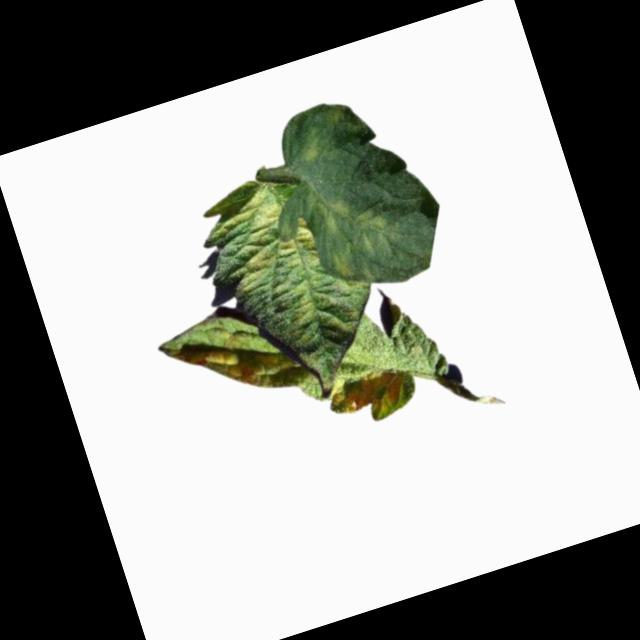Leaf_Mold: (156, 316, 306, 423), (203, 173, 324, 302), (309, 181, 402, 269), (320, 359, 411, 430), (288, 99, 358, 168), (325, 244, 359, 282)
